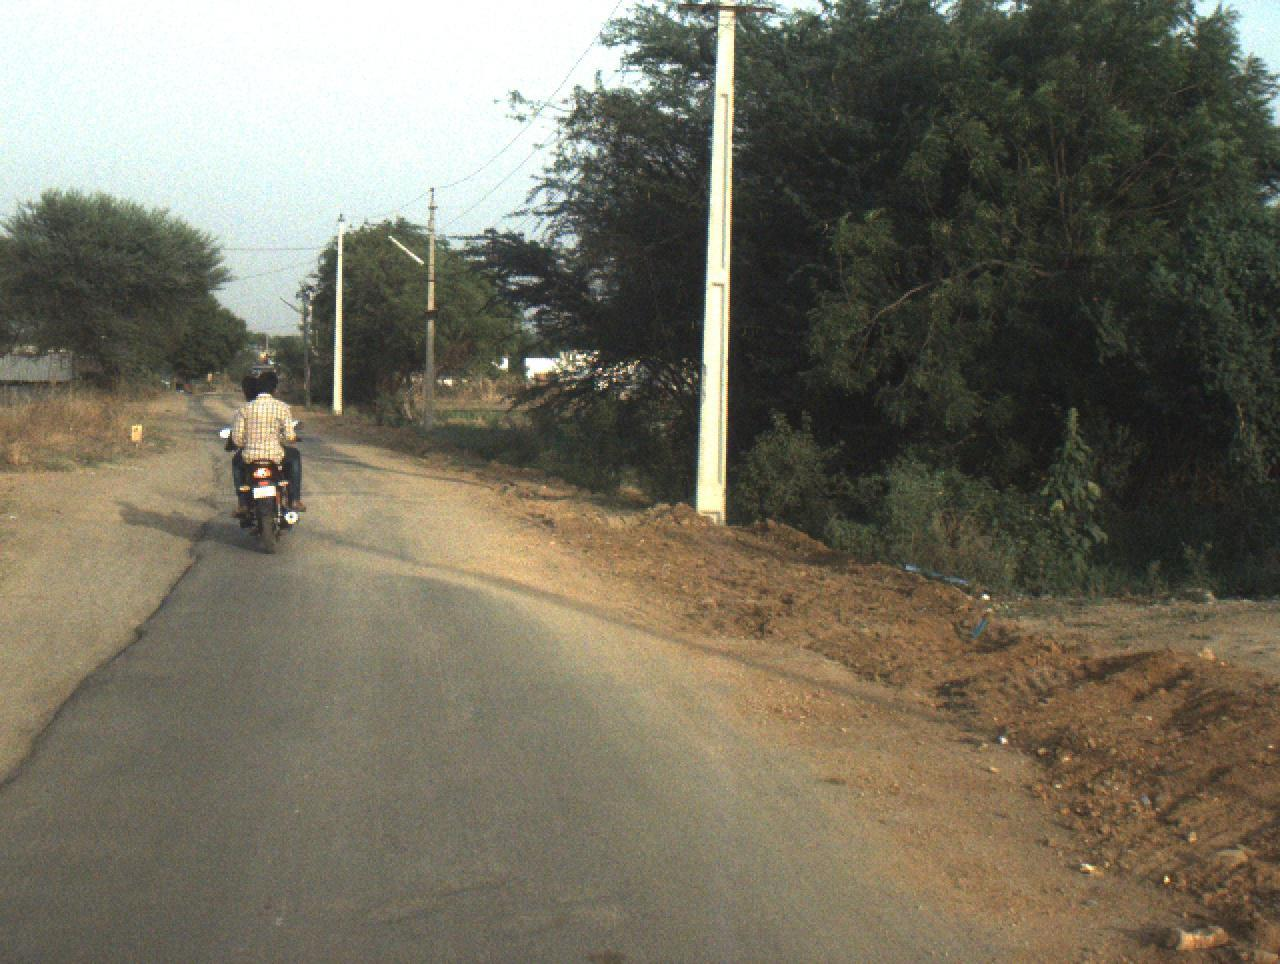off: (50, 0, 1172, 964)
